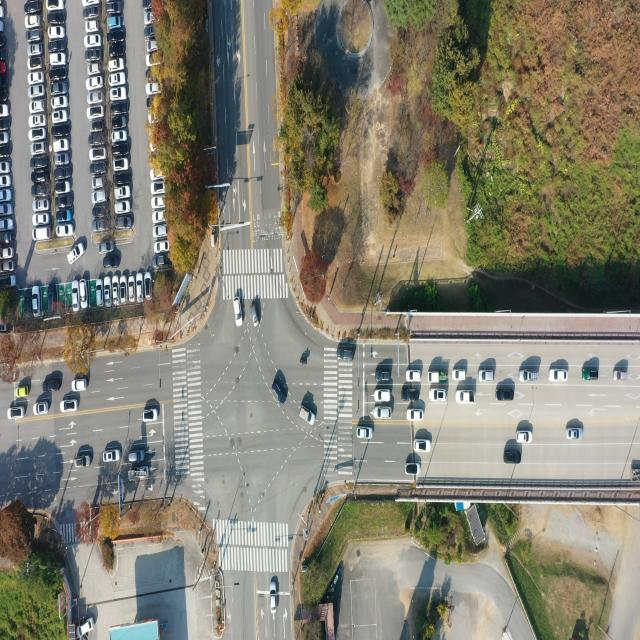car: (298, 403, 316, 427)
small_truck: (128, 466, 150, 482), (32, 225, 51, 242), (428, 369, 448, 385)
